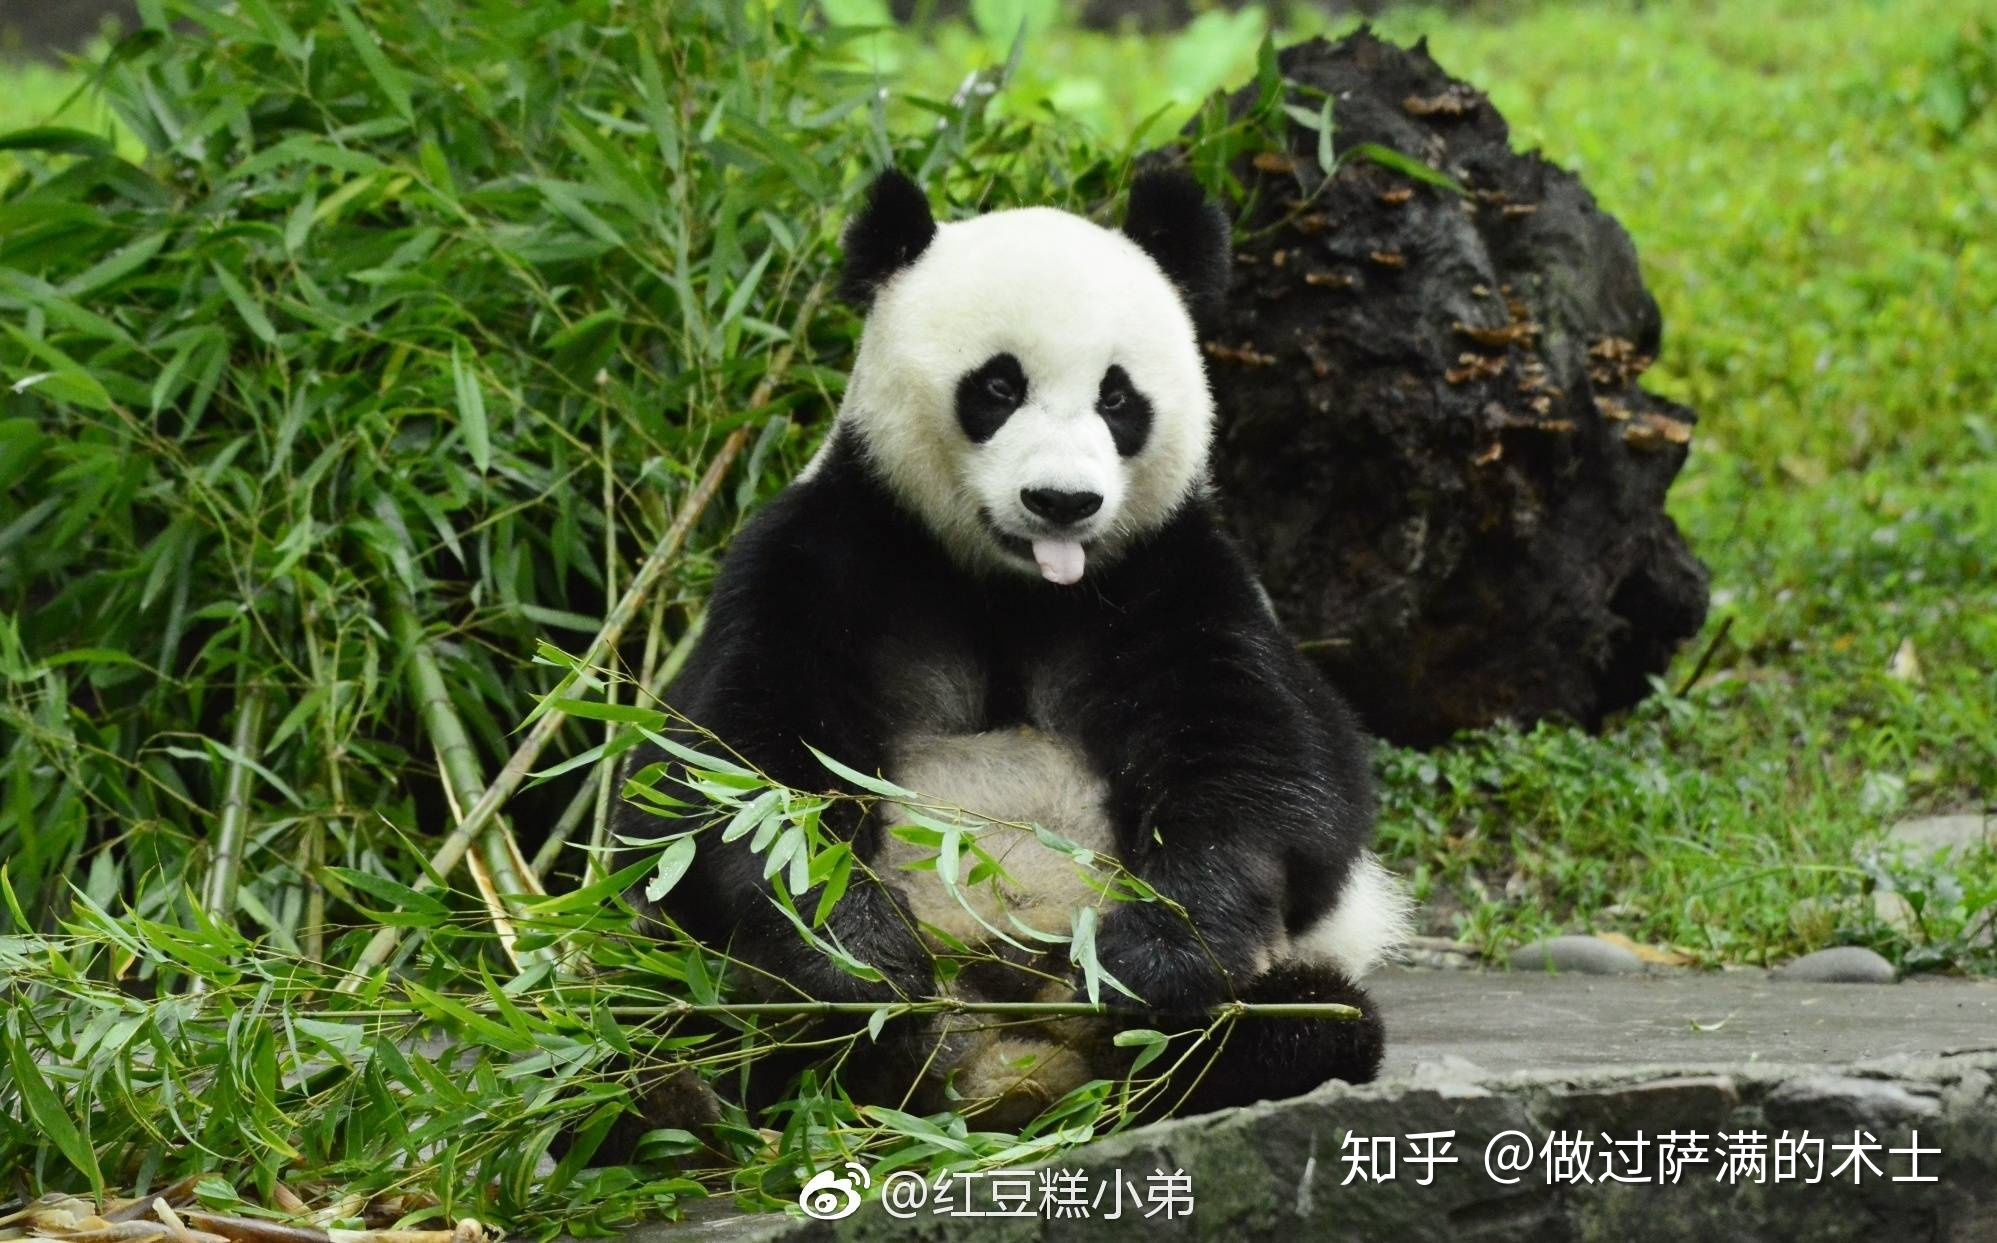panda: (648, 137, 1430, 1058)
